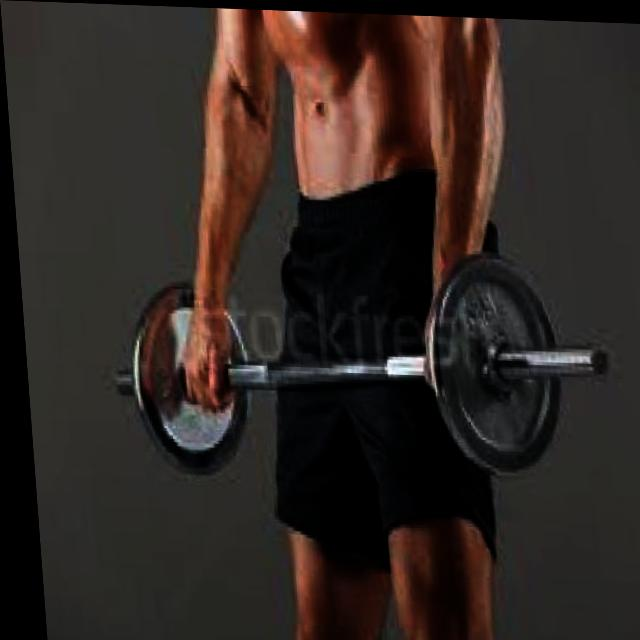barbell: (416, 245, 617, 481)
